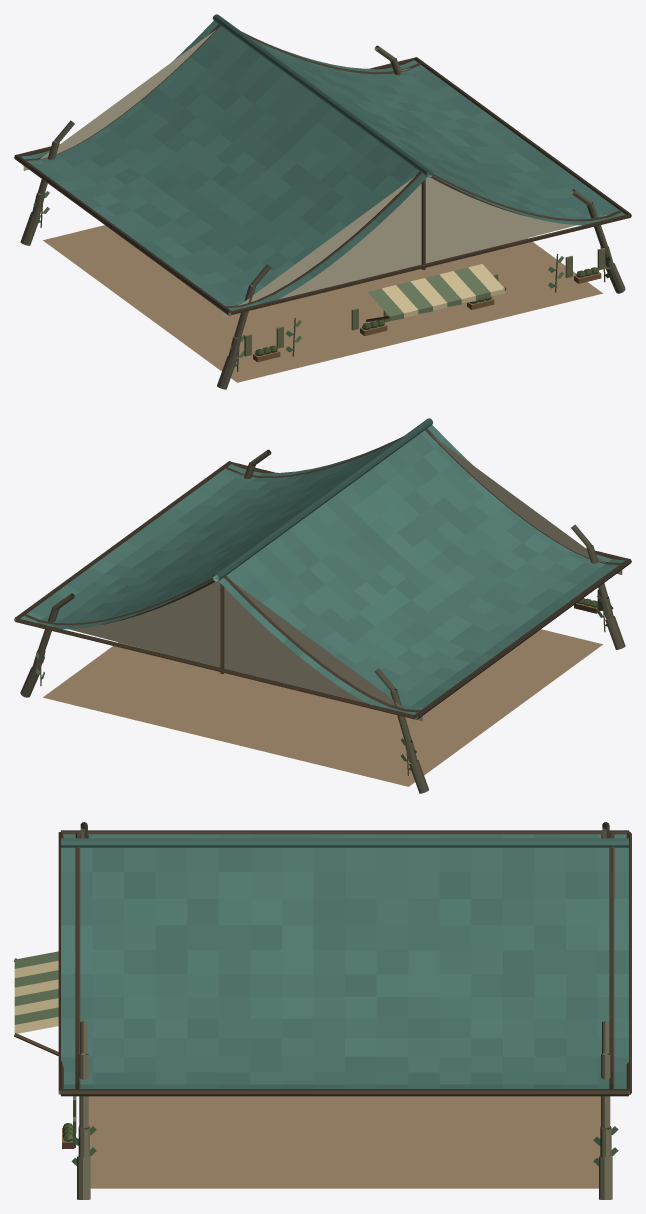
3 views of the same model, one above another, from view 1: azimuth 30°, elevation 25°; view 2: azimuth 150°, elevation 25°; view 3: azimuth 270°, elevation 25° (orthographic). The views are drawn at different scales.
Visible parts, largest first — view 1: 24a5a91c7b01127e2e2da6b36ea4ae4f7839dd01628d21e819bdd280466c; view 2: 24a5a91c7b01127e2e2da6b36ea4ae4f7839dd01628d21e819bdd280466c; view 3: 24a5a91c7b01127e2e2da6b36ea4ae4f7839dd01628d21e819bdd280466c.
Part boxes in pixels (x1,y1,x2,y2): 24a5a91c7b01127e2e2da6b36ea4ae4f7839dd01628d21e819bdd280466c: [14, 14, 631, 389]; 24a5a91c7b01127e2e2da6b36ea4ae4f7839dd01628d21e819bdd280466c: [14, 418, 631, 793]; 24a5a91c7b01127e2e2da6b36ea4ae4f7839dd01628d21e819bdd280466c: [14, 822, 631, 1199].
Bounding box in the file's own units: 14.13 × 5.85 × 13.98.
Materials: 6 (1 with a texture image).
